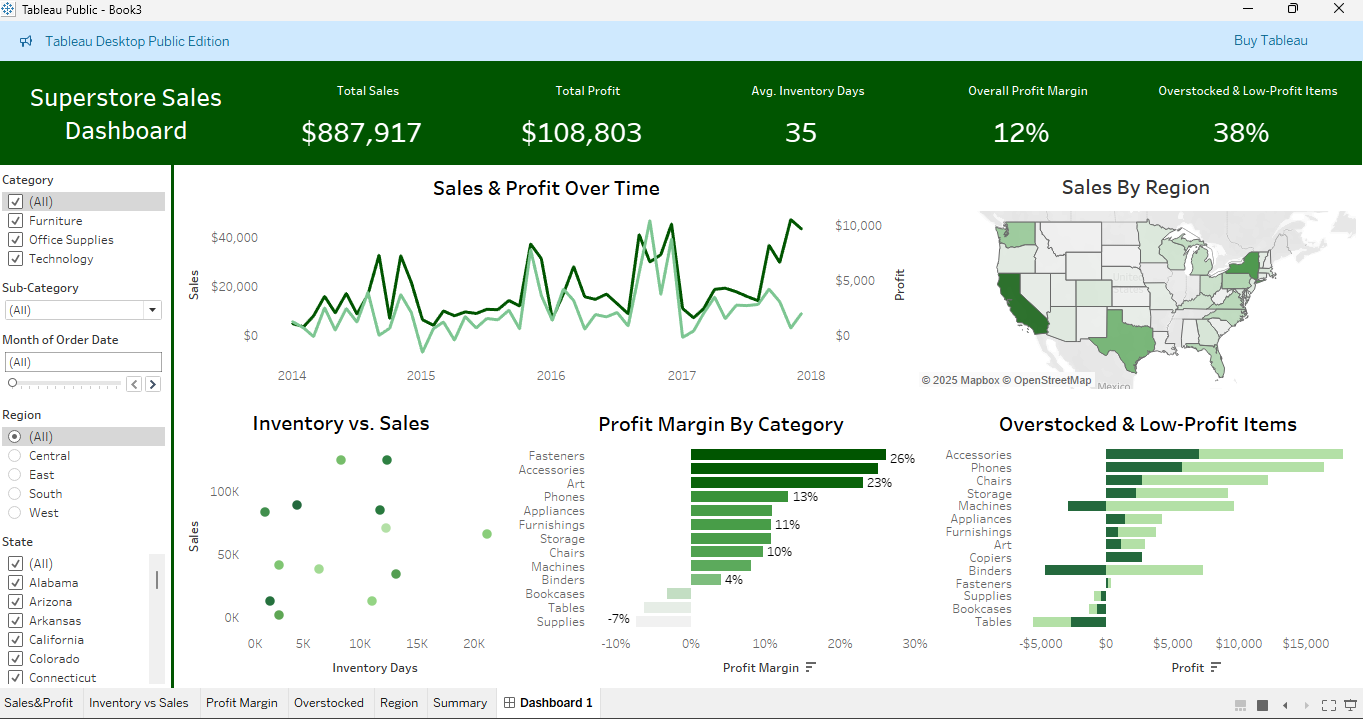

What the dashboard file says about the page in this screenshot:
{"tool":"tableau","page":{"name":"Dashboard 1","canvas":[1000,1000],"units":"permille","ordinal":0},"visuals":[{"type":"text","box":[0,0,187.5,165.4]},{"type":"worksheet","title":"Summary","mark":"Automatic","box":[187.2,0,811.1,165.1]},{"type":"worksheet","title":"Region","mark":"Multipolygon","box":[669.5,163.6,328,365.8]},{"type":"worksheet","title":"Sales&Profit","mark":"Automatic","rows":["Sales","Profit"],"cols":["Order Date"],"box":[128.9,165.4,545.6,365.8]},{"type":"filter","title":"Sales&Profit","param":"[federated.1c2pl0g0cqa6ep1gsppkp1tg4jqv].[none:Category:nk]","box":[0,169.1,125.5,198.5]},{"type":"filter","title":"Sales&Profit","param":"[federated.1c2pl0g0cqa6ep1gsppkp1tg4jqv].[none:Sub-Category:nk]","box":[0,367.7,125.5,95.6]},{"type":"filter","title":"Sales&Profit","param":"[federated.1c2pl0g0cqa6ep1gsppkp1tg4jqv].[mn:Order Date:ok]","box":[0,463.2,125.5,137.9]},{"type":"worksheet","title":"Inventory vs Sales","mark":"Automatic","rows":["Sales"],"cols":["Inventory_Days"],"box":[128.9,540.4,244.3,457.7]},{"type":"worksheet","title":"Profit Margin","mark":"Automatic","rows":["Sub-Category"],"cols":["Calculation_653303446312910853"],"box":[371.6,542.3,314.6,455.9]},{"type":"worksheet","title":"Overstocked","mark":"Bar","rows":["Sub-Category"],"cols":["Profit"],"box":[684.5,542.3,314.6,455.9]},{"type":"filter","title":"Sales&Profit","param":"[federated.1c2pl0g0cqa6ep1gsppkp1tg4jqv].[none:Region:nk]","box":[0,601.1,125.5,199.4]},{"type":"filter","title":"Sales&Profit","param":"[federated.1c2pl0g0cqa6ep1gsppkp1tg4jqv].[none:State:nk]","box":[0,800.6,125.5,199.5]}]}

Visuals, with their boxes on the dashboard's canvas, which has no fixed pixel size, in thousandths of its width and height (x1, y1, x2, y2). These are canvas units, not pixel positions in the 1363x719 screenshot, which may show the page scaled, cropped or inside an application window:
text: bbox(0, 0, 188, 165)
"Summary" worksheet: bbox(187, 0, 998, 165)
"Region" worksheet (Multipolygon marks): bbox(670, 164, 998, 529)
"Sales&Profit" worksheet: bbox(129, 165, 674, 531)
"Sales&Profit" filter: bbox(0, 169, 126, 368)
"Sales&Profit" filter: bbox(0, 368, 126, 463)
"Sales&Profit" filter: bbox(0, 463, 126, 601)
"Inventory vs Sales" worksheet: bbox(129, 540, 373, 998)
"Profit Margin" worksheet: bbox(372, 542, 686, 998)
"Overstocked" worksheet (Bar marks): bbox(684, 542, 999, 998)
"Sales&Profit" filter: bbox(0, 601, 126, 800)
"Sales&Profit" filter: bbox(0, 801, 126, 1000)
